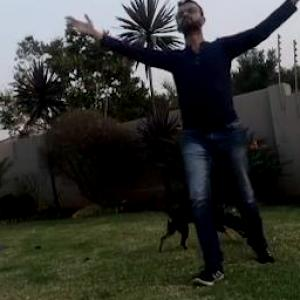takeoff: (97, 5, 300, 256)
